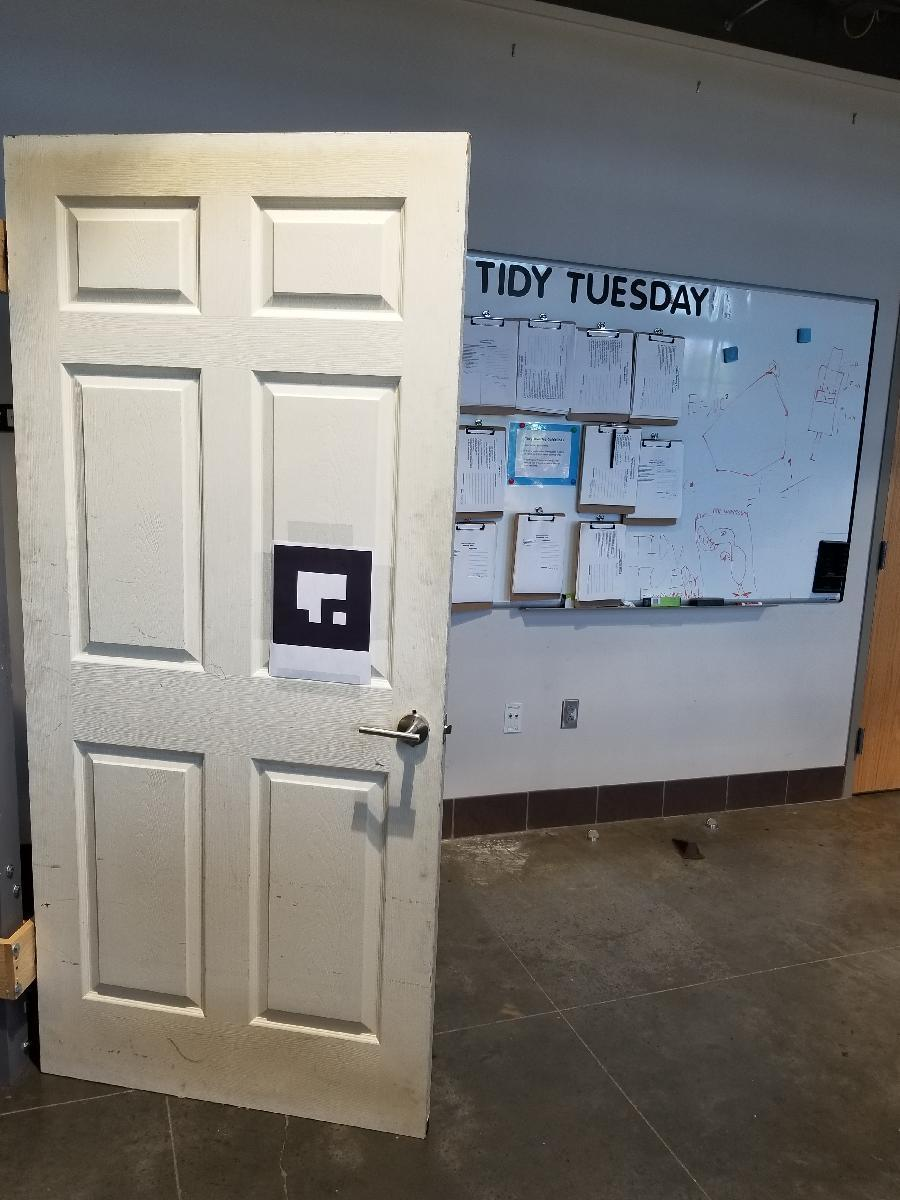door: (13, 135, 439, 1128)
handle: (359, 709, 432, 745)
